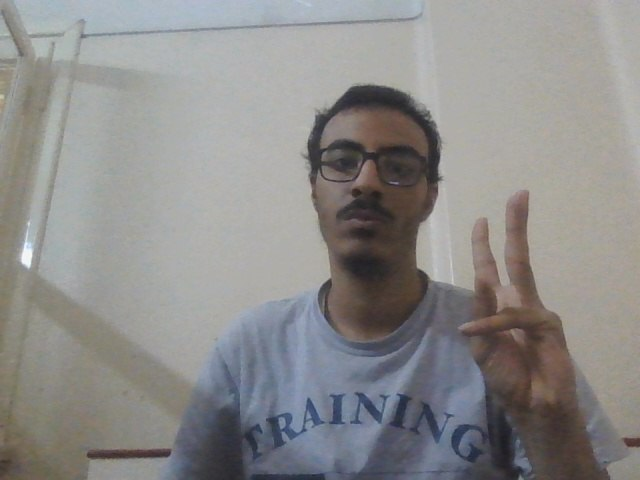Water: (453, 187, 588, 427)
